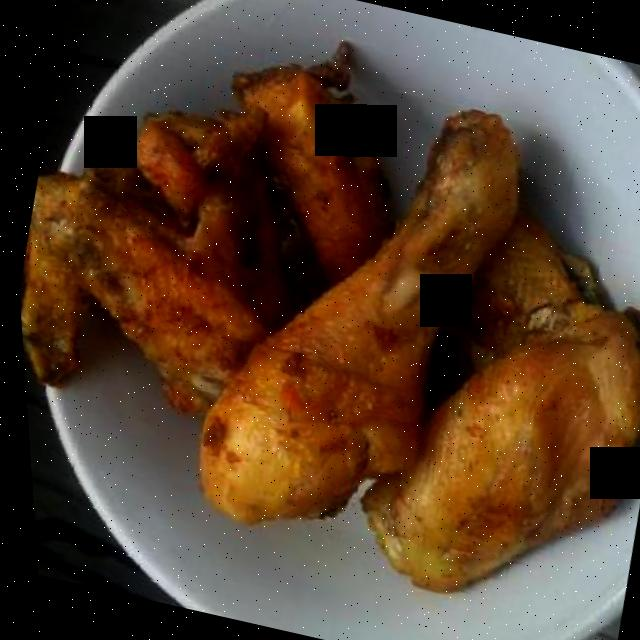Frango: (316, 116, 640, 640), (3, 51, 299, 483), (201, 198, 440, 522), (155, 6, 406, 280)
